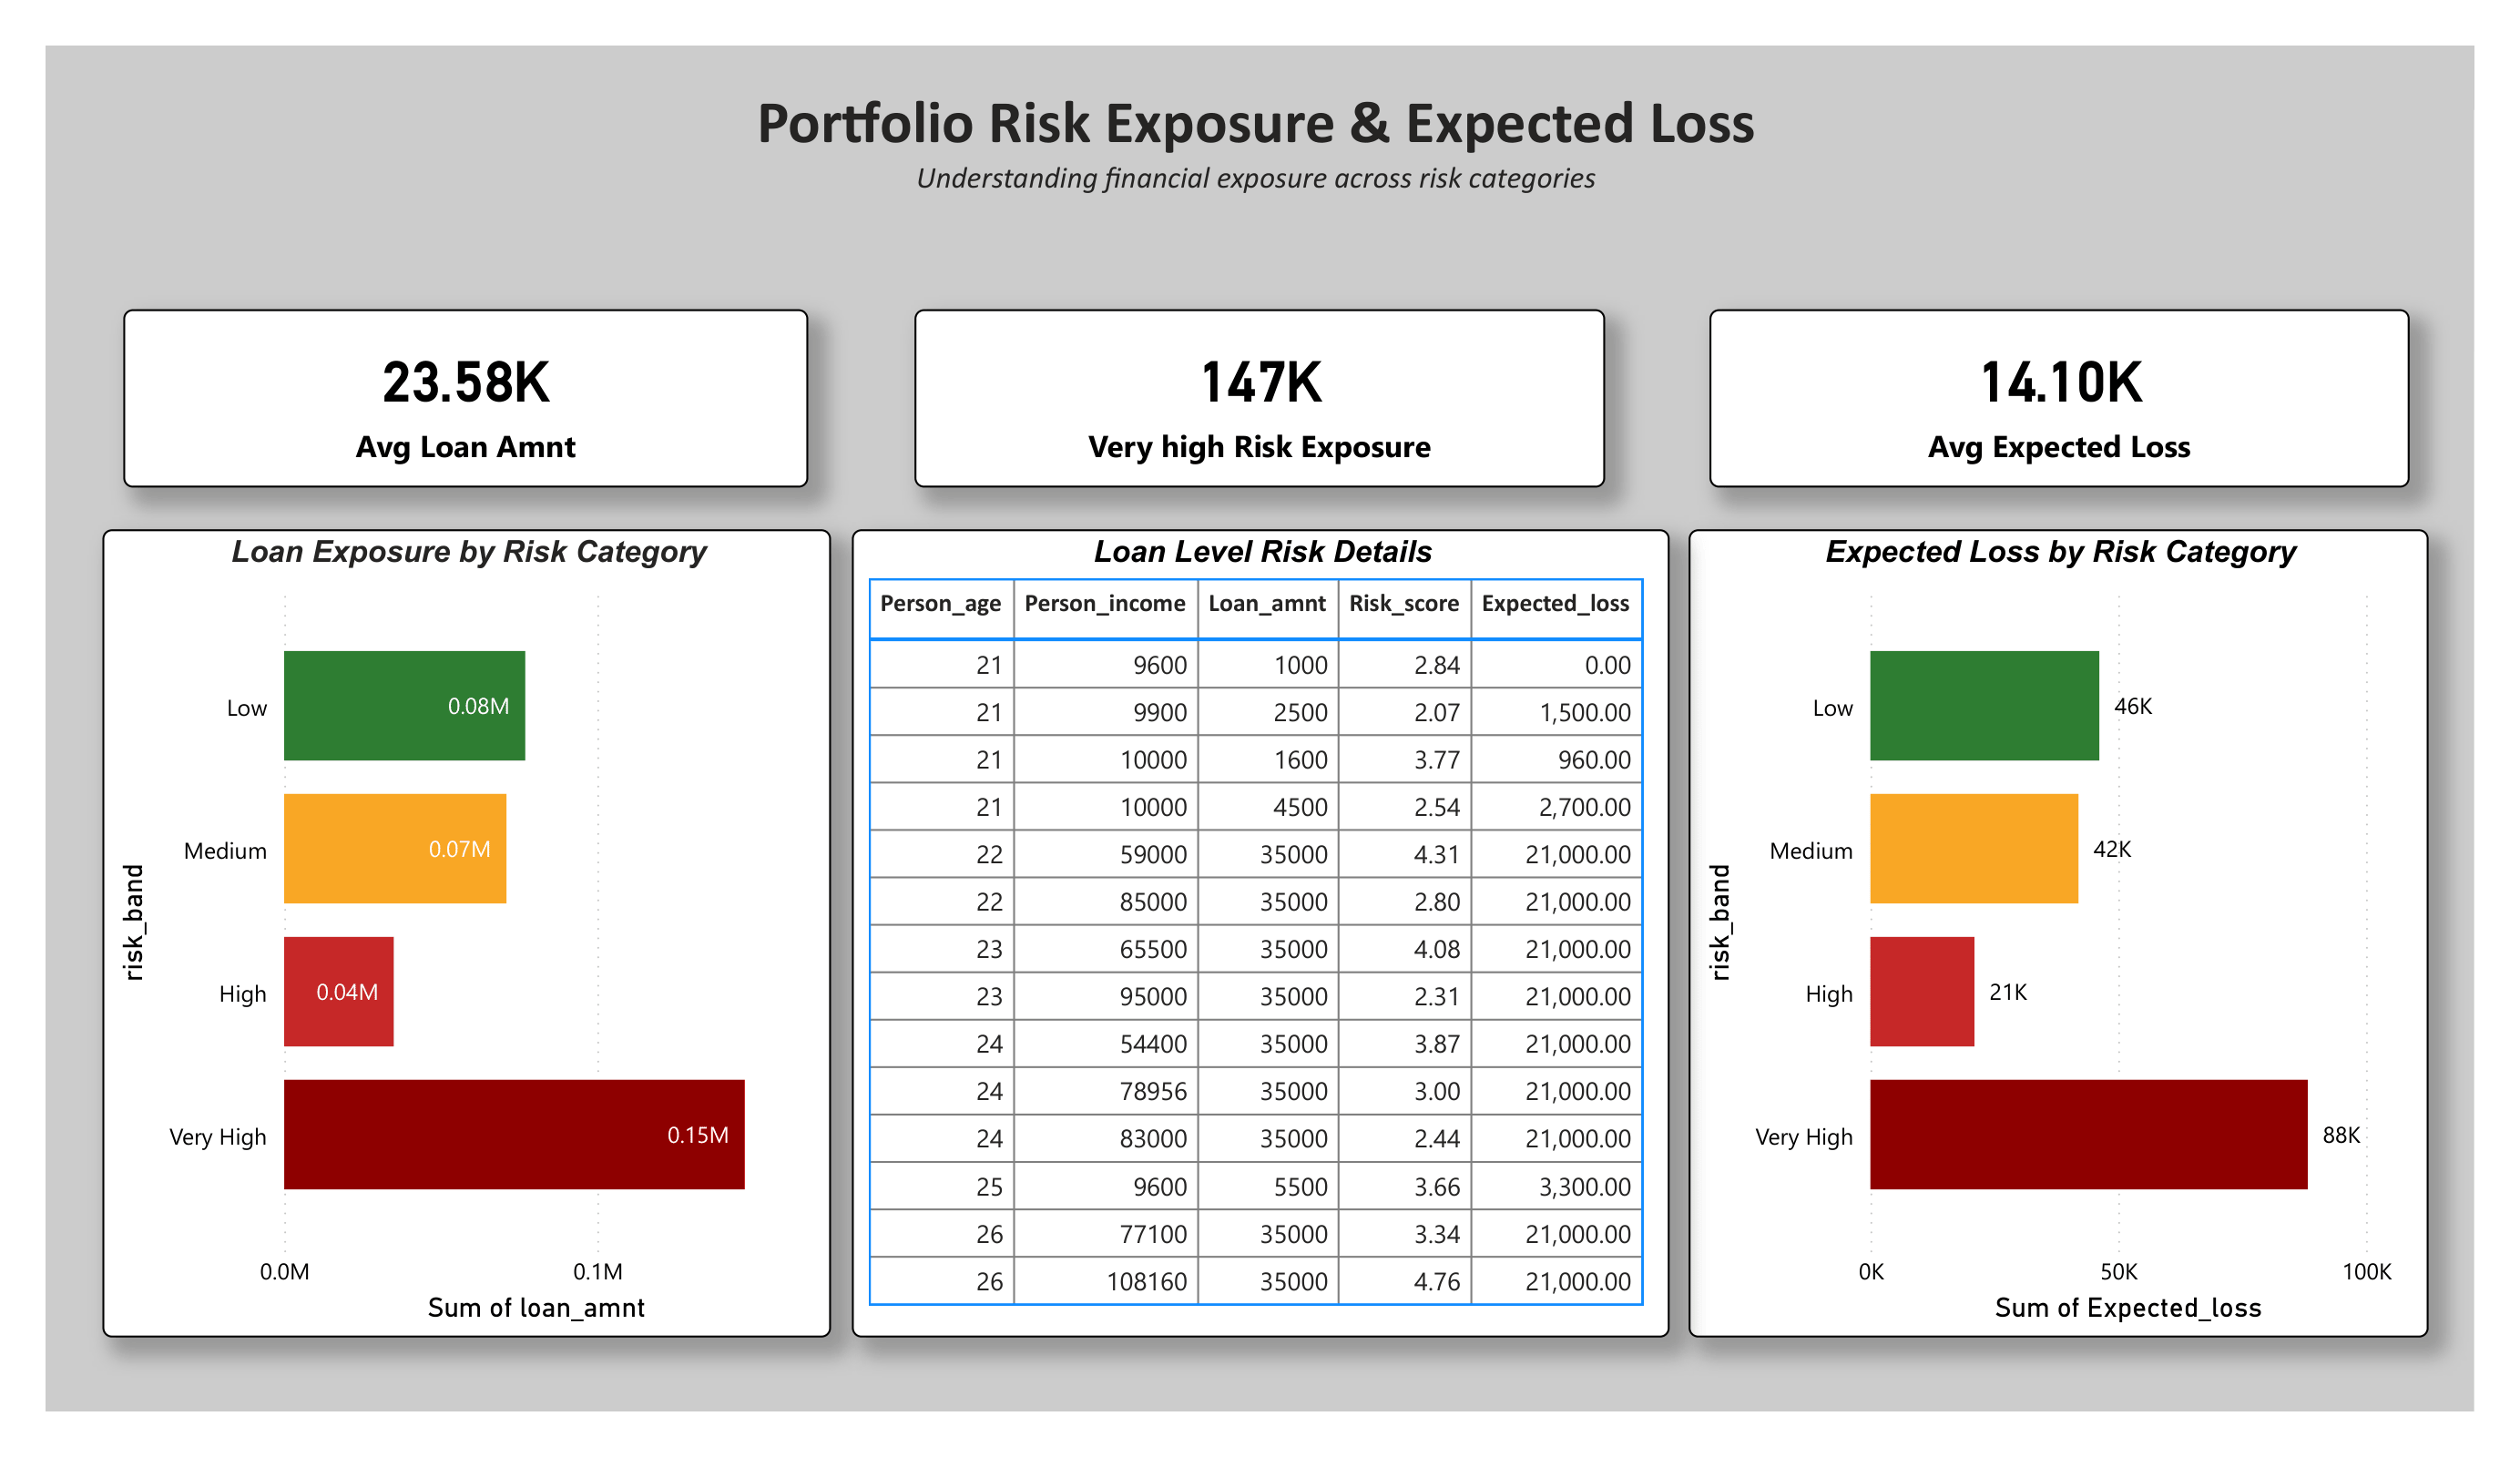

The page's visual inventory and layout, read from the dashboard file:
{"tool":"powerbi","page":{"name":"Portfolio Monitoring","canvas":[1280,720],"ordinal":2},"visuals":[{"type":"barChart","title":"Loan Exposure by Risk Category","fields":{"Category":["RiskBandTable.risk_band"],"Y":["Sum(risk_data_mart bnpl_risk_featured.loan_amnt)"]},"box":[30.2,255.2,384.2,425.4],"z":0},{"type":"clusteredBarChart","title":"Expected Loss by Risk Category","fields":{"Category":["RiskBandTable.risk_band"],"Y":["Sum(risk_data_mart bnpl_risk_featured.Expected_loss)"]},"box":[865.9,255.2,389.7,425.4],"z":1000},{"type":"tableEx","title":"Loan Level Risk Details","fields":{"Values":["risk_data_mart bnpl_risk_featured.person_age","risk_data_mart bnpl_risk_featured.person_income","risk_data_mart bnpl_risk_featured.loan_amnt","risk_data_mart bnpl_risk_featured.risk_score","risk_data_mart bnpl_risk_featured.Expected_loss"]},"box":[425.4,255.2,430.9,425.4],"z":2000},{"type":"textbox","box":[30,16.4,1216.1,84.6],"z":3000},{"type":"card","fields":{"Values":["risk_data_mart bnpl_risk_featured.Avg Loan Amnt"]},"box":[41.2,138.6,360.9,94.7],"z":4000},{"type":"card","fields":{"Values":["risk_data_mart bnpl_risk_featured.Avg Expected Loss"]},"box":[876.8,138.6,369.1,94.7],"z":5000},{"type":"card","fields":{"Values":["risk_data_mart bnpl_risk_featured.Very high Risk Exposure"]},"box":[458.3,138.6,363.6,94.7],"z":6000}]}

Visuals, with their boxes on the page's 1280x720 design canvas (x1, y1, x2, y2). These are canvas units, not pixel positions in the 2520x1457 screenshot, which may show the page scaled, cropped or inside an application window:
"Loan Exposure by Risk Category" barChart: 30:255:414:681
"Expected Loss by Risk Category" clusteredBarChart: 866:255:1256:681
"Loan Level Risk Details" tableEx: 425:255:856:681
textbox: 30:16:1246:101
card - risk_data_mart bnpl_risk_featured.Avg Loan Amnt: 41:139:402:233
card - risk_data_mart bnpl_risk_featured.Avg Expected Loss: 877:139:1246:233
card - risk_data_mart bnpl_risk_featured.Very high Risk Exposure: 458:139:822:233
